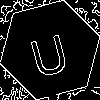U: (25, 25, 72, 79)
